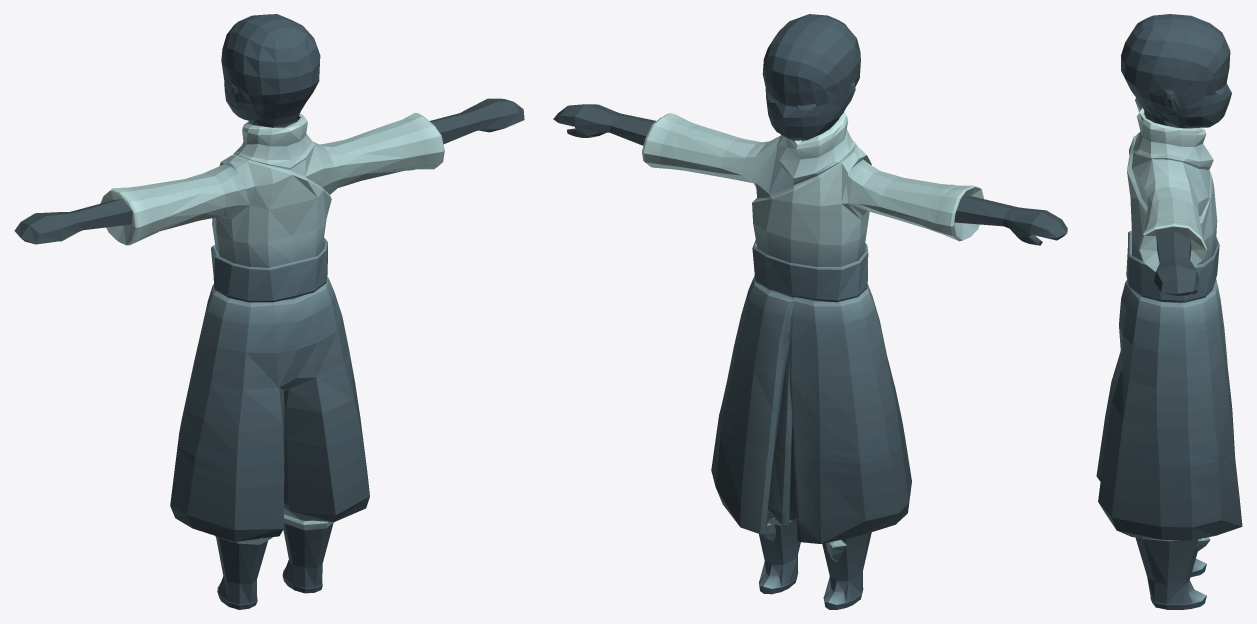
File: CharSkyKid_Body_AP08BaggyPants_01.glb
3 renders of one model, left to right at view 1: azimuth 30°, elevation 25°; view 2: azimuth 150°, elevation 25°; view 3: azimuth 270°, elevation 25°, orthographic.
Parts seen in each view (by area): view 1: CharSkyKid_Body_AP08BaggyPants_01; view 2: CharSkyKid_Body_AP08BaggyPants_01; view 3: CharSkyKid_Body_AP08BaggyPants_01.
Boxes of the visible parts, left/top/right/bottom form: CharSkyKid_Body_AP08BaggyPants_01: left=14, top=14, right=524, bottom=609; CharSkyKid_Body_AP08BaggyPants_01: left=553, top=14, right=1067, bottom=609; CharSkyKid_Body_AP08BaggyPants_01: left=1096, top=14, right=1242, bottom=609.
Bounding box in the file's own units: 13.83 × 14.92 × 3.47.
Materials: 1 (1 with a texture image).
